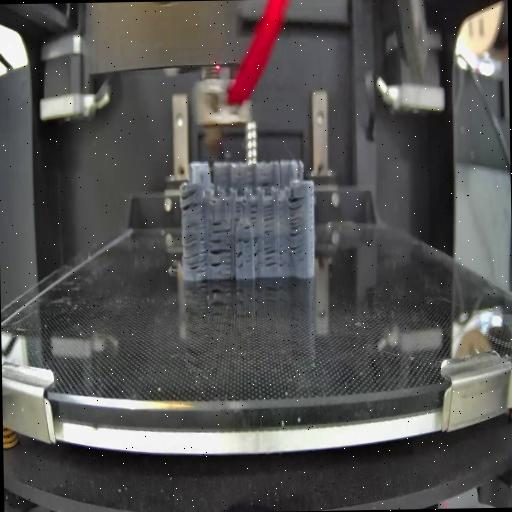cracks: (286, 196, 305, 258), (210, 238, 232, 274), (183, 238, 206, 272), (178, 190, 202, 210), (262, 204, 276, 235), (264, 244, 278, 271), (212, 219, 232, 236), (253, 236, 261, 273), (234, 249, 244, 276), (236, 232, 252, 248), (234, 202, 243, 224), (250, 202, 258, 224), (256, 180, 277, 188), (278, 248, 286, 268)
